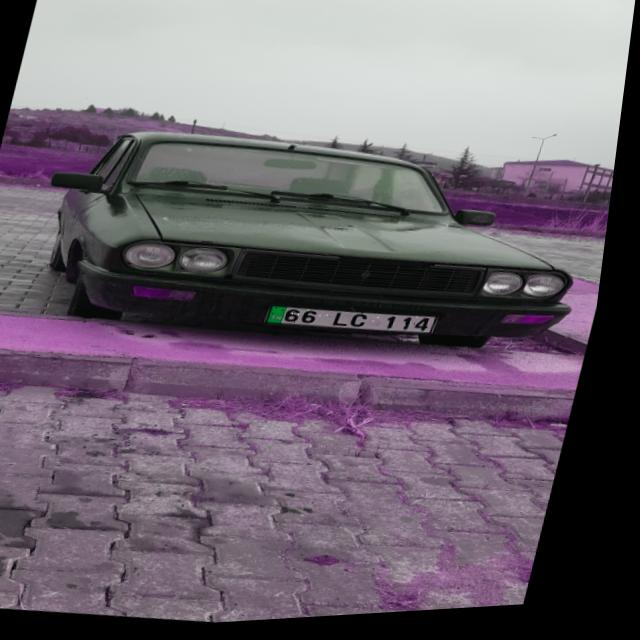license_plate: (272, 300, 449, 348)
